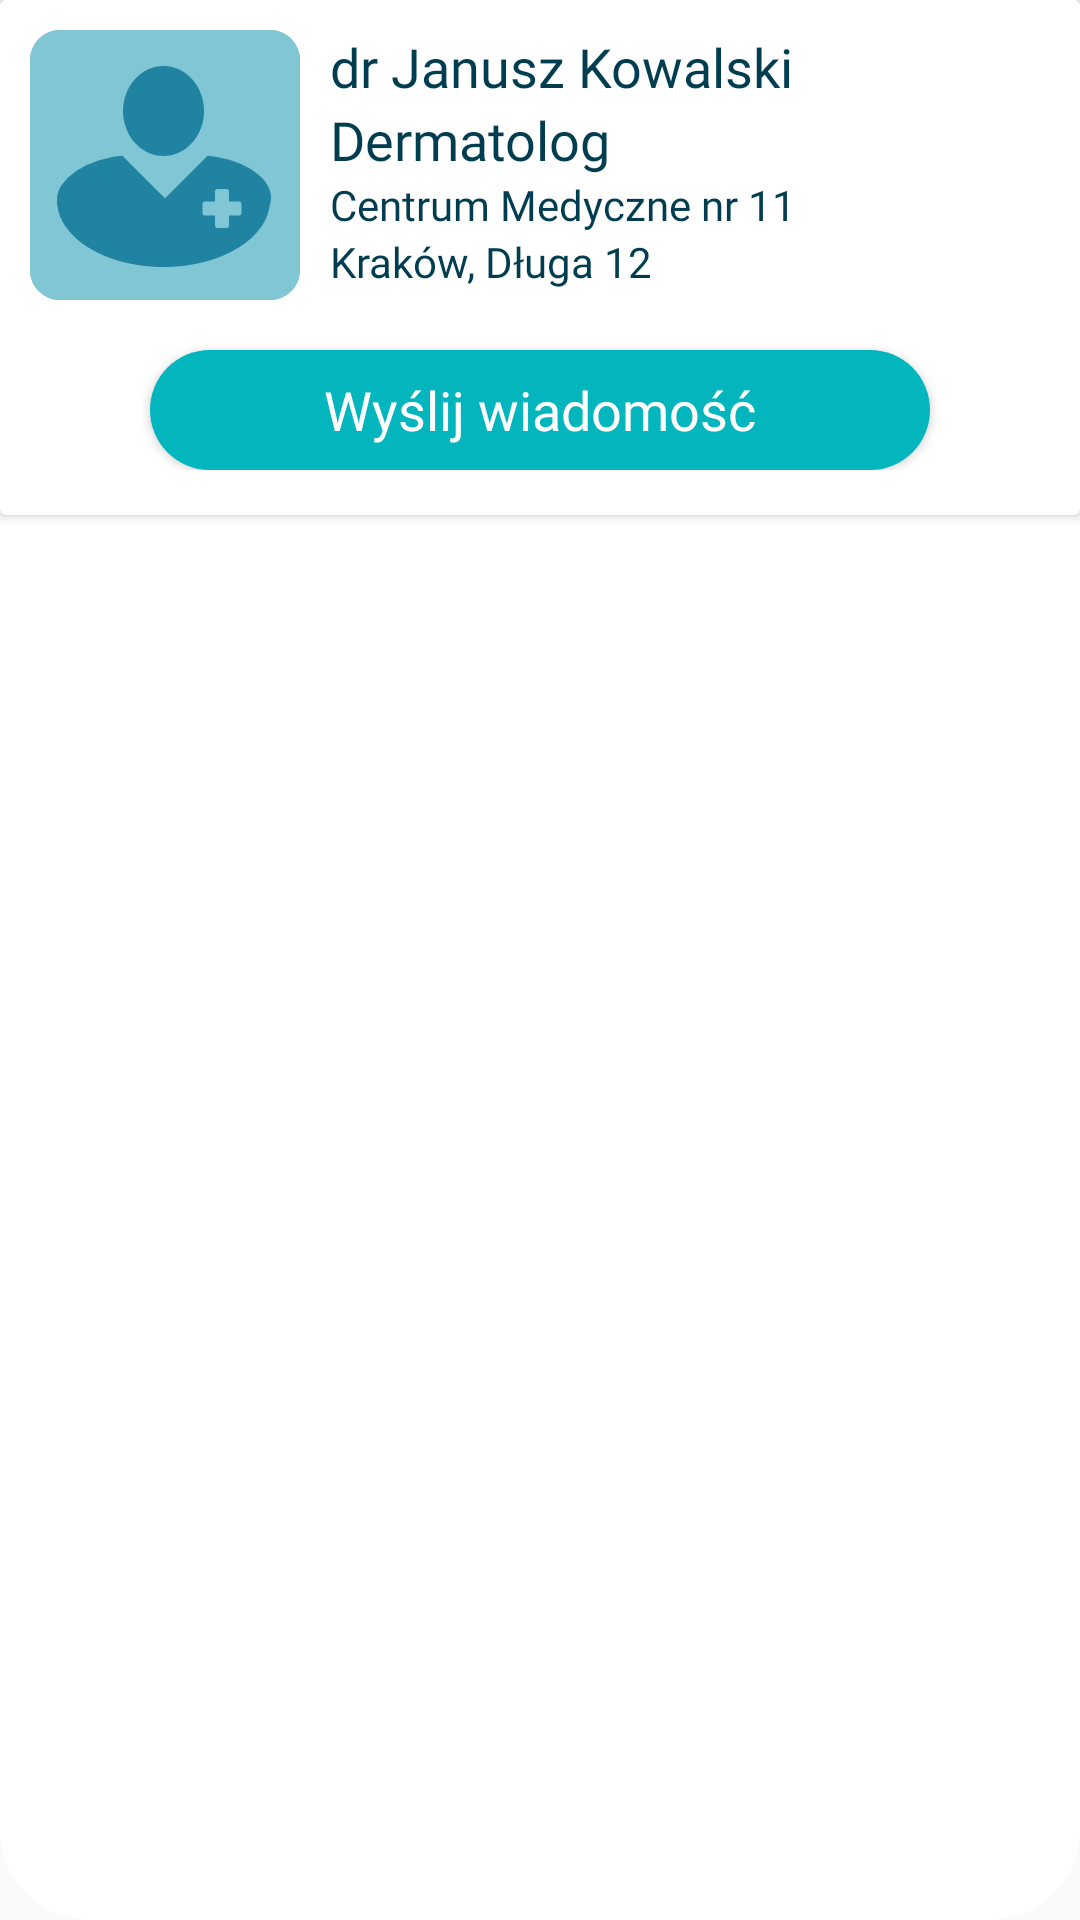

Locate icon controls on the screen. Image size 1080 x 1920, boxes as (x1, y1, x2, y2).
profile pic: (30, 30, 300, 300)
